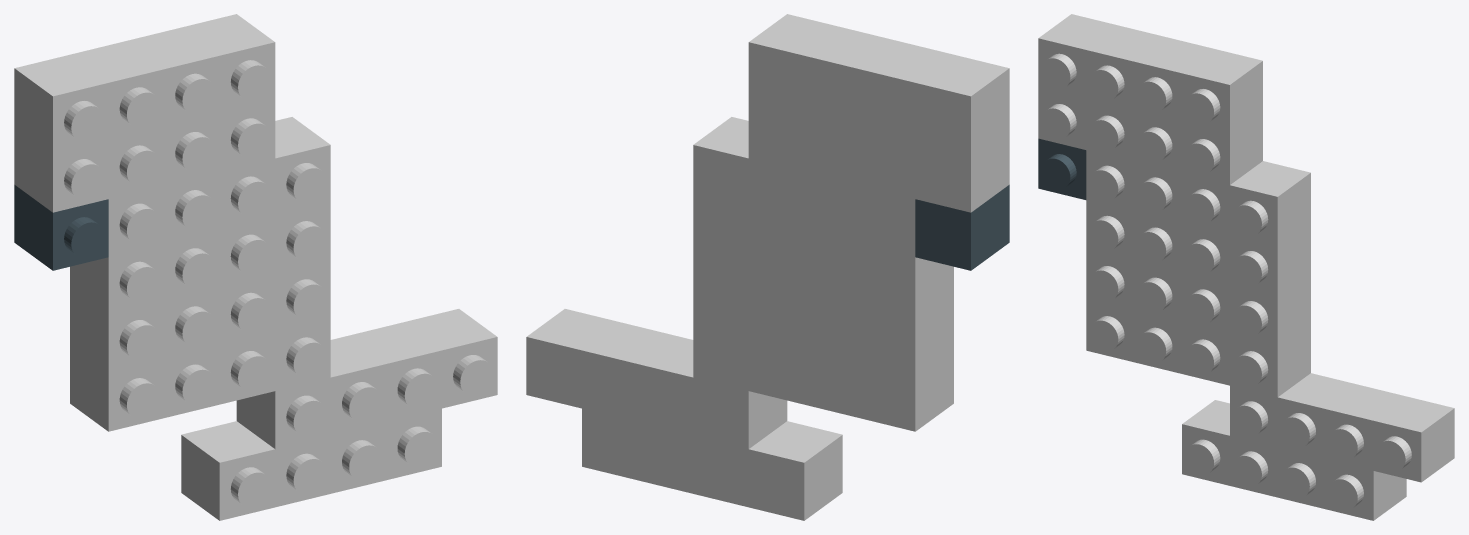
Rendered from current.glb.
3 views of the same model, side by side, from view 1: azimuth 30°, elevation 25°; view 2: azimuth 150°, elevation 25°; view 3: azimuth 330°, elevation 25° (orthographic). The views are drawn at different scales.
Visible parts, largest first — view 1: world; view 2: world; view 3: world.
Part boxes in pixels (x1,y1,x2,y2): world: (14, 14, 497, 520); world: (526, 14, 1009, 520); world: (1038, 14, 1454, 520).
Size of the model in its own units: 64 by 64 by 11.4.
